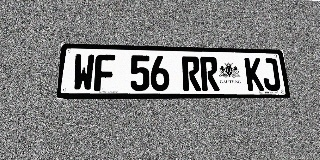5: (130, 55, 150, 91)
6: (150, 56, 170, 91)
F: (94, 54, 115, 91)
J: (261, 58, 281, 91)
K: (244, 58, 264, 91)
R: (200, 57, 220, 91), (182, 56, 201, 91)
W: (72, 54, 95, 91)
